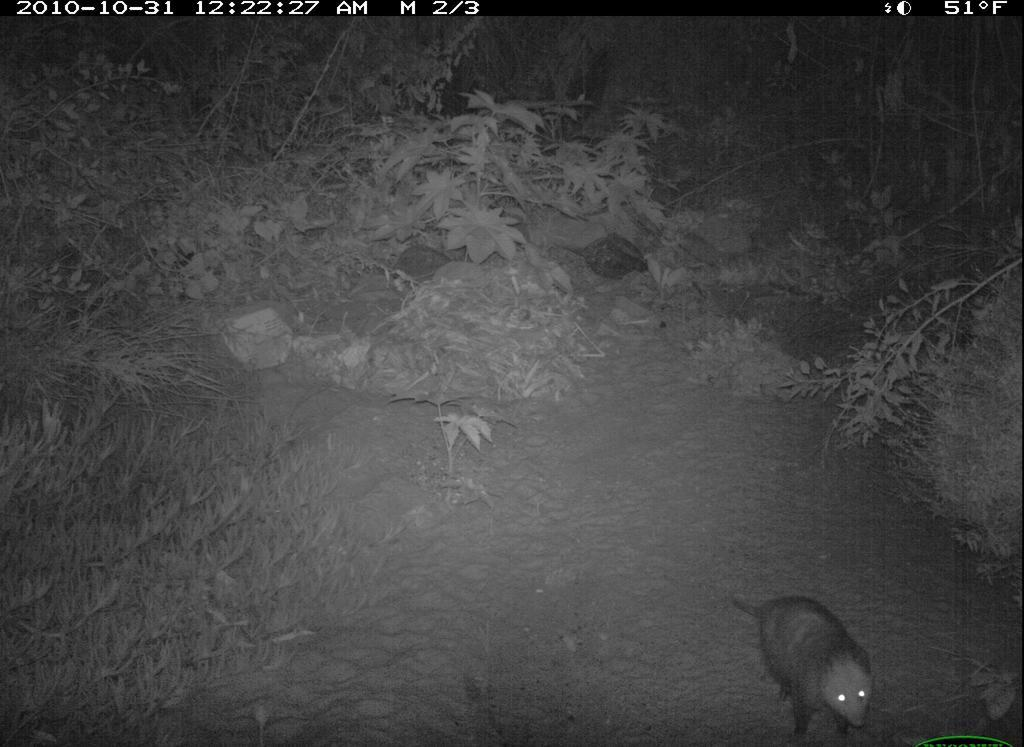opossum: (726, 584, 884, 744)
